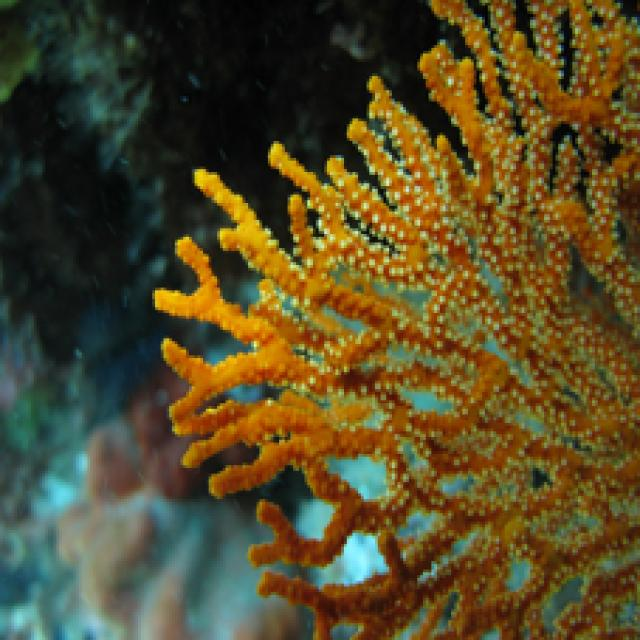Healthy: (156, 1, 638, 638)
